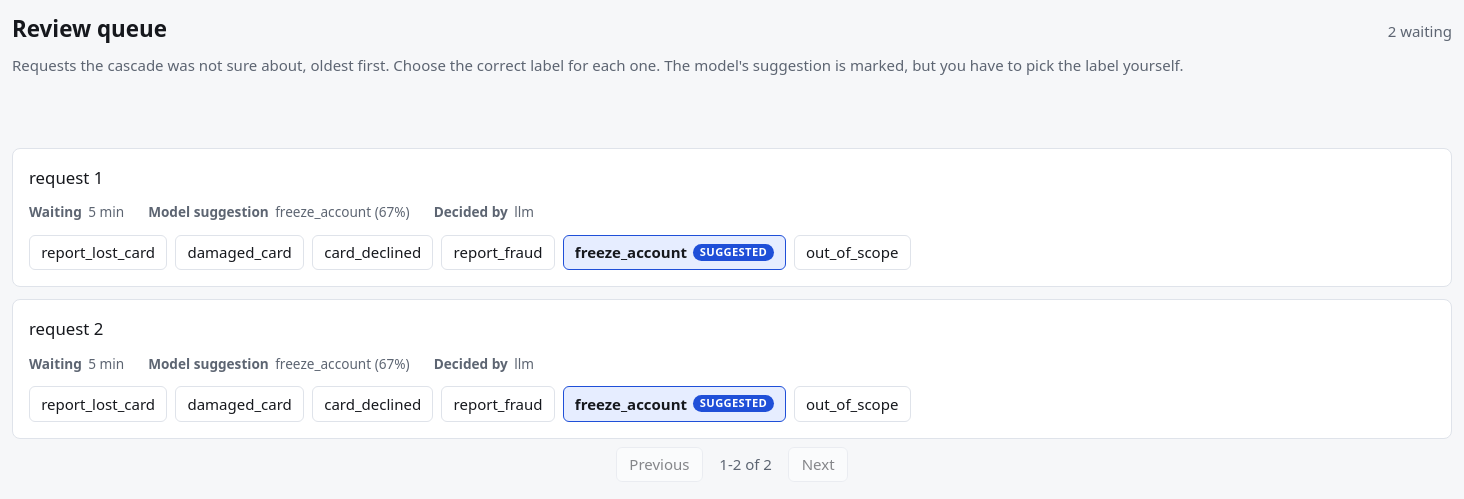
Test: when a decision fails › tells the person that the request is gone on a 404
Expected: the list item "request 1" is shown, left=12, top=148, right=1452, bottom=287
Click the 1st button "report_fraud": click(498, 253) left=441, top=235, right=555, bottom=270
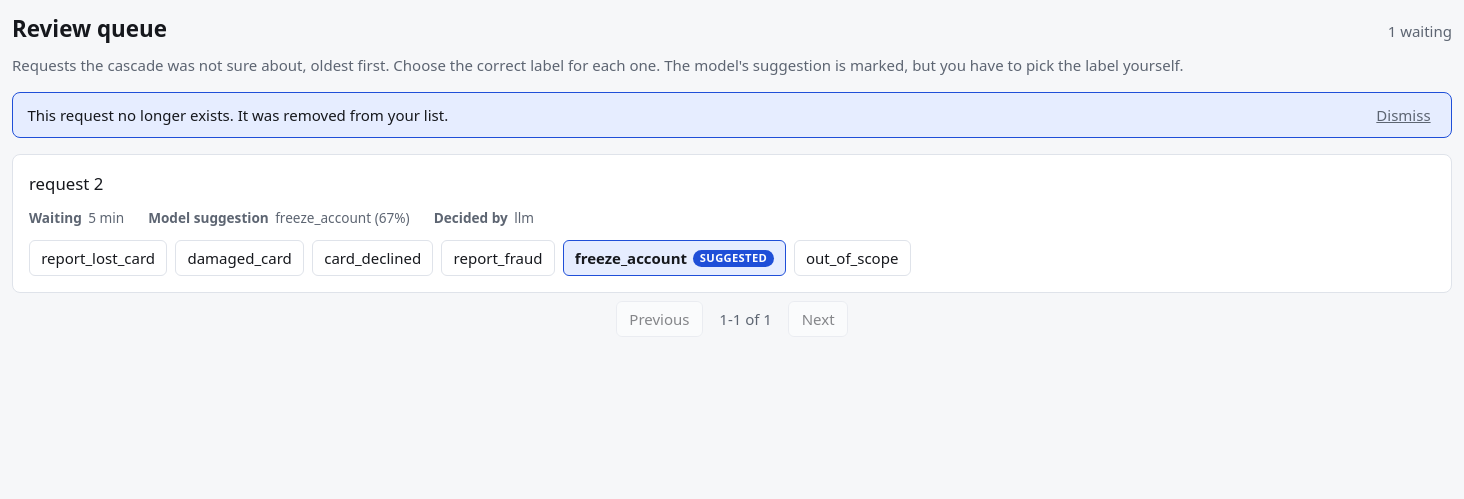
Expected: the text "no longer exists" is shown, left=27, top=105, right=448, bottom=125
Expected: the text "request 1" is gone
